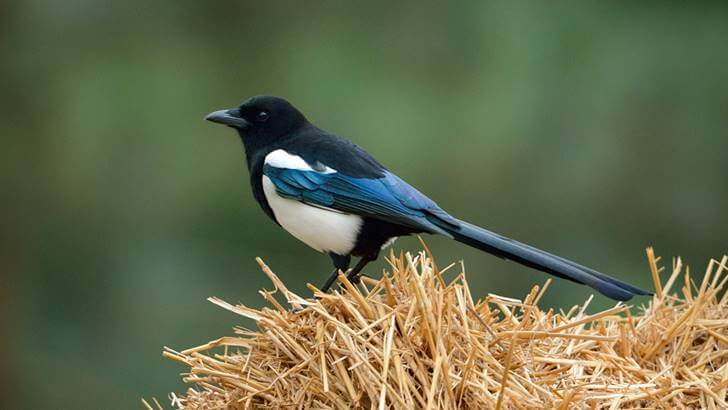magpie: (200, 86, 655, 316)
